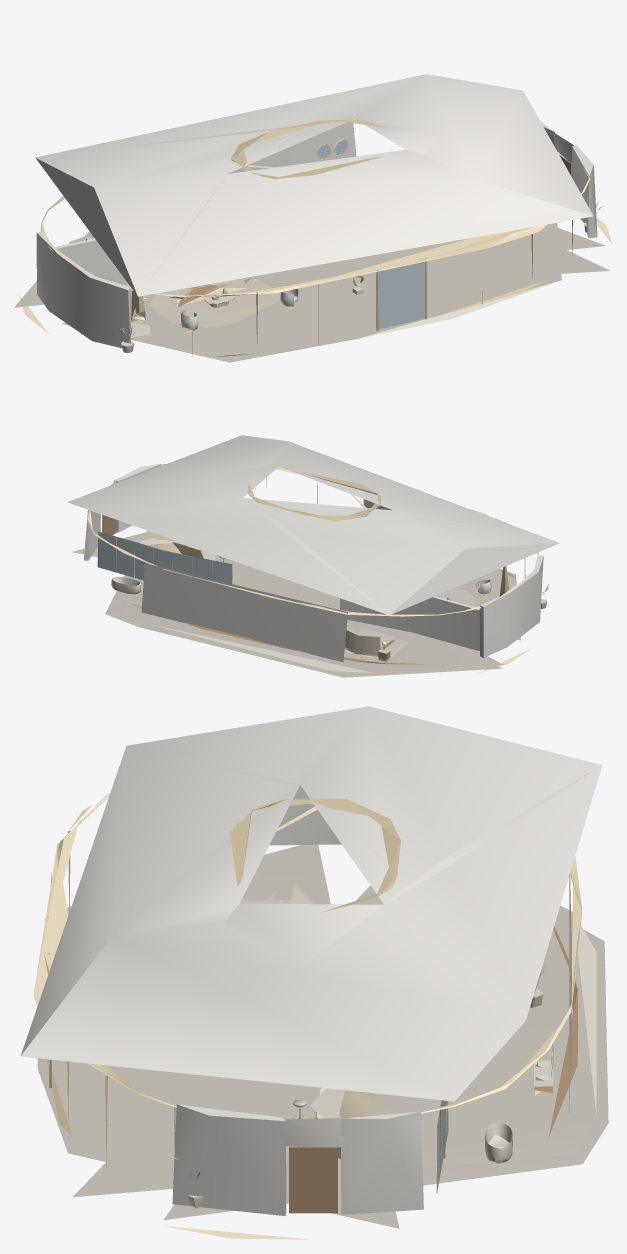
The model's file is Nocturne_LOD1.dae.
The picture shows the model from 3 angles, top to bottom: view 1: azimuth 30°, elevation 25°; view 2: azimuth 150°, elevation 25°; view 3: azimuth 270°, elevation 25°; orthographic projection. The views are drawn at different scales.
Parts seen in each view (by area): view 1: Nocturne_Roof_LOD1, Nocturne_Floor_LOD1, Nocturne_Wall_W_LOD1, Nocturne_Rug_LOD1, Nocturne_Door_S_LOD1, Nocturne_Wall_N_LOD1, Nocturne_Wall_E_LOD1, Nocturne_Partition_LOD1, Nocturne_Glass_S_LOD1, Nocturne_Sofa_LOD1, Nocturne_Fireplace_LOD1; view 2: Nocturne_Roof_LOD1, Nocturne_Floor_LOD1, Nocturne_Wall_N_LOD1, Nocturne_Partition_LOD1, Nocturne_Wall_W_LOD1, Nocturne_Bath_Screen_LOD1, Nocturne_Bed_LOD1, Nocturne_Wall_E_LOD1, Nocturne_Bar_LOD1, Nocturne_Bathtub_LOD1, Nocturne_Rug_LOD1; view 3: Nocturne_Roof_LOD1, Nocturne_Floor_LOD1, Nocturne_Wall_E_LOD1, Nocturne_Door_E_LOD1, Nocturne_Wall_W_LOD1, Nocturne_Wall_N_LOD1, Nocturne_Bar_LOD1, Nocturne_Glass_S_LOD1, Nocturne_Bathtub_LOD1, Nocturne_Bath_Screen_LOD1.
Boxes of the visible parts, x1,y1,x2,y2 form: Nocturne_Roof_LOD1: (35,74,593,297); Nocturne_Floor_LOD1: (14,217,612,362); Nocturne_Wall_W_LOD1: (36,231,131,348); Nocturne_Rug_LOD1: (149,277,280,327); Nocturne_Door_S_LOD1: (376,258,427,330); Nocturne_Wall_N_LOD1: (228,122,356,173); Nocturne_Wall_E_LOD1: (540,121,597,237); Nocturne_Partition_LOD1: (54,238,127,284); Nocturne_Glass_S_LOD1: (129,177,591,357); Nocturne_Sofa_LOD1: (169,277,252,306); Nocturne_Fireplace_LOD1: (131,290,150,337); Nocturne_Roof_LOD1: (67,435,559,616); Nocturne_Floor_LOD1: (72,532,531,677); Nocturne_Wall_N_LOD1: (129,563,424,664); Nocturne_Partition_LOD1: (340,596,479,651); Nocturne_Wall_W_LOD1: (479,555,543,657); Nocturne_Bath_Screen_LOD1: (97,531,232,584); Nocturne_Bed_LOD1: (344,628,394,657); Nocturne_Wall_E_LOD1: (83,463,161,560); Nocturne_Bar_LOD1: (137,538,215,560); Nocturne_Bathtub_LOD1: (111,577,140,594); Nocturne_Rug_LOD1: (437,587,475,606); Nocturne_Roof_LOD1: (20,706,602,1122); Nocturne_Floor_LOD1: (37,844,608,1239); Nocturne_Wall_E_LOD1: (172,1104,423,1215); Nocturne_Door_E_LOD1: (289,1146,337,1213); Nocturne_Wall_W_LOD1: (269,785,341,845); Nocturne_Wall_N_LOD1: (548,874,578,1136); Nocturne_Bar_LOD1: (310,1088,376,1159); Nocturne_Glass_S_LOD1: (44,805,175,1166); Nocturne_Bathtub_LOD1: (484,1123,512,1163); Nocturne_Bath_Screen_LOD1: (436,1100,448,1193).
Bounding box in the file's own units: 27.44 × 17.44 × 6.03.
